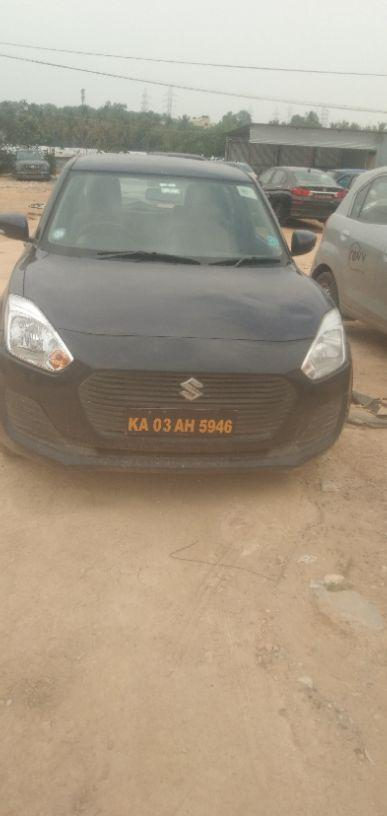license_plate: (122, 409, 237, 437)
